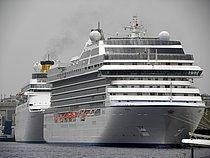Ship: (39, 19, 210, 151)
